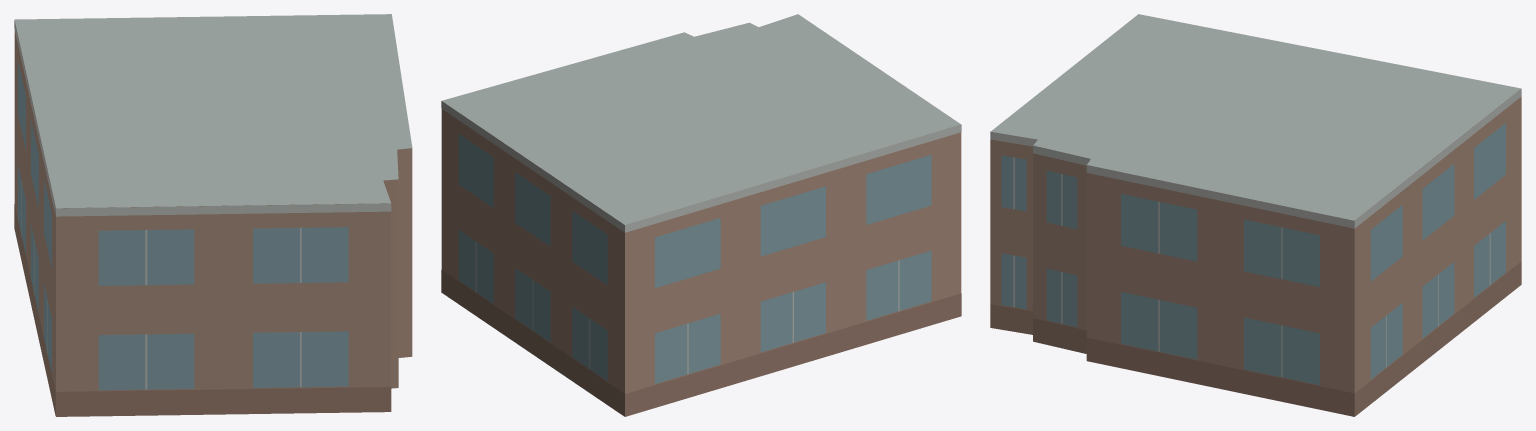
The model's file is survey-upis-32951263.glb.
3 renders of one model, left to right at view 1: azimuth 30°, elevation 25°; view 2: azimuth 150°, elevation 25°; view 3: azimuth 270°, elevation 25°, orthographic. The views are drawn at different scales.
Parts seen in each view (by area): view 1: survey-upis-32951263.tmp; view 2: survey-upis-32951263.tmp; view 3: survey-upis-32951263.tmp.
Boxes of the visible parts, x1,y1,x2,y2 form: survey-upis-32951263.tmp: (14,14,412,416); survey-upis-32951263.tmp: (441,14,961,416); survey-upis-32951263.tmp: (990,14,1521,416).
Bounding box in the file's own units: 13.81 × 6.1 × 14.99.
